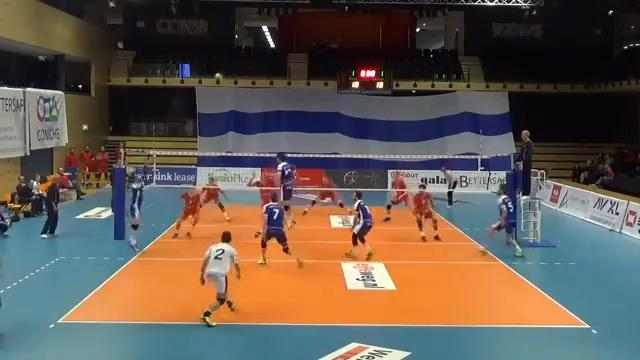Attack: (121, 161, 145, 255)
Player: (200, 231, 240, 326), (258, 193, 293, 264), (489, 184, 522, 256), (345, 191, 373, 260), (302, 175, 343, 215), (412, 184, 440, 240), (276, 152, 295, 227), (172, 188, 201, 237), (383, 172, 409, 221), (201, 177, 229, 221), (248, 172, 275, 207)
ball: (215, 72, 224, 84)
